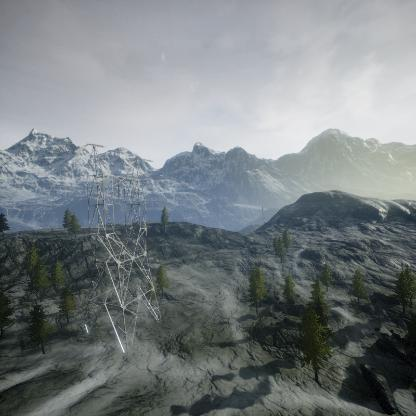tower: (77, 139, 164, 355)
